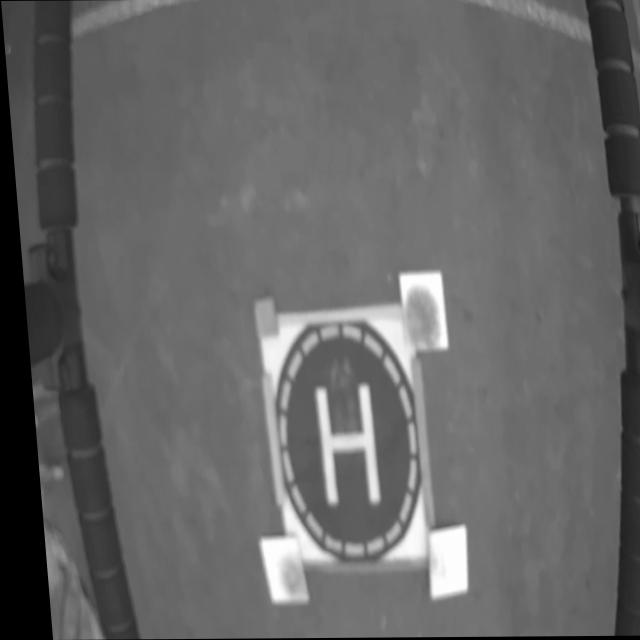Helipad: (306, 385, 371, 509)
